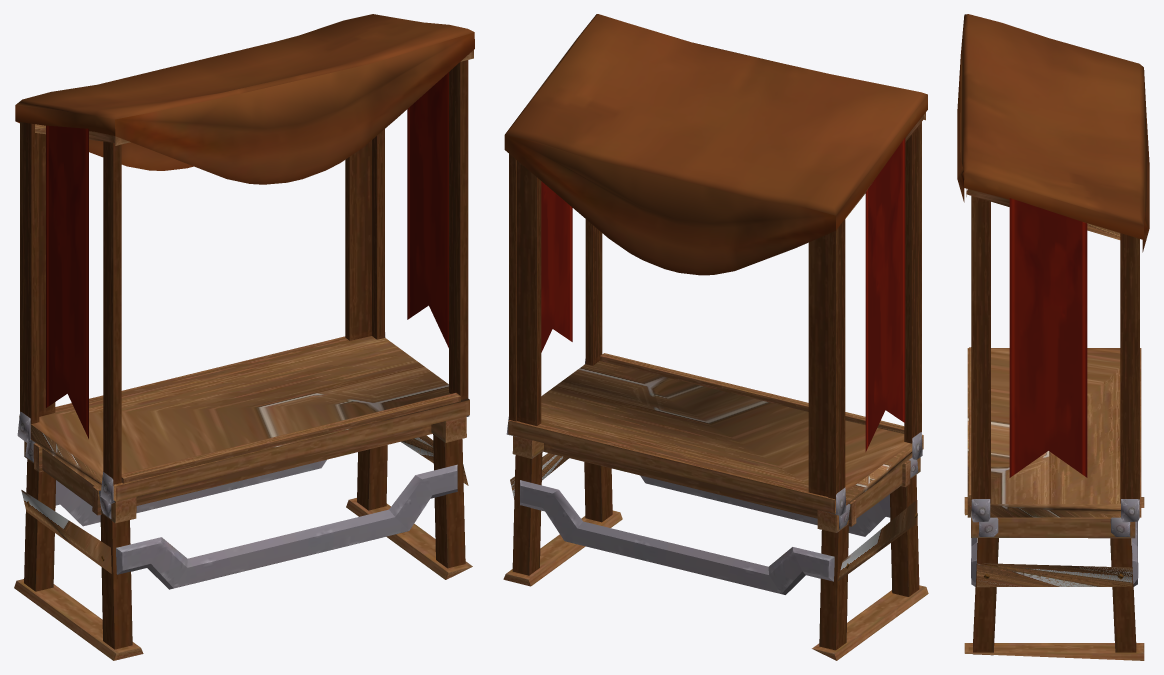
File: Stall_Empty.gltf
3 renders of one model, left to right at view 1: azimuth 30°, elevation 25°; view 2: azimuth 150°, elevation 25°; view 3: azimuth 270°, elevation 25°, orthographic. The views are drawn at different scales.
Parts seen in each view (by area): view 1: Stall_Empty; view 2: Stall_Empty; view 3: Stall_Empty.
Boxes of the visible parts, x1=… form: Stall_Empty: x1=14, y1=14, x2=474, y2=660; Stall_Empty: x1=503, y1=14, x2=928, y2=660; Stall_Empty: x1=957, y1=14, x2=1149, y2=660.
Size of the model in its own units: 1.83 by 2.63 by 0.9324.
Materials: 3 (3 with a texture image).
